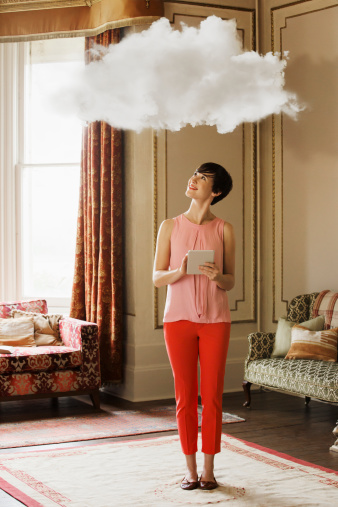em pe: (148, 151, 238, 488)
